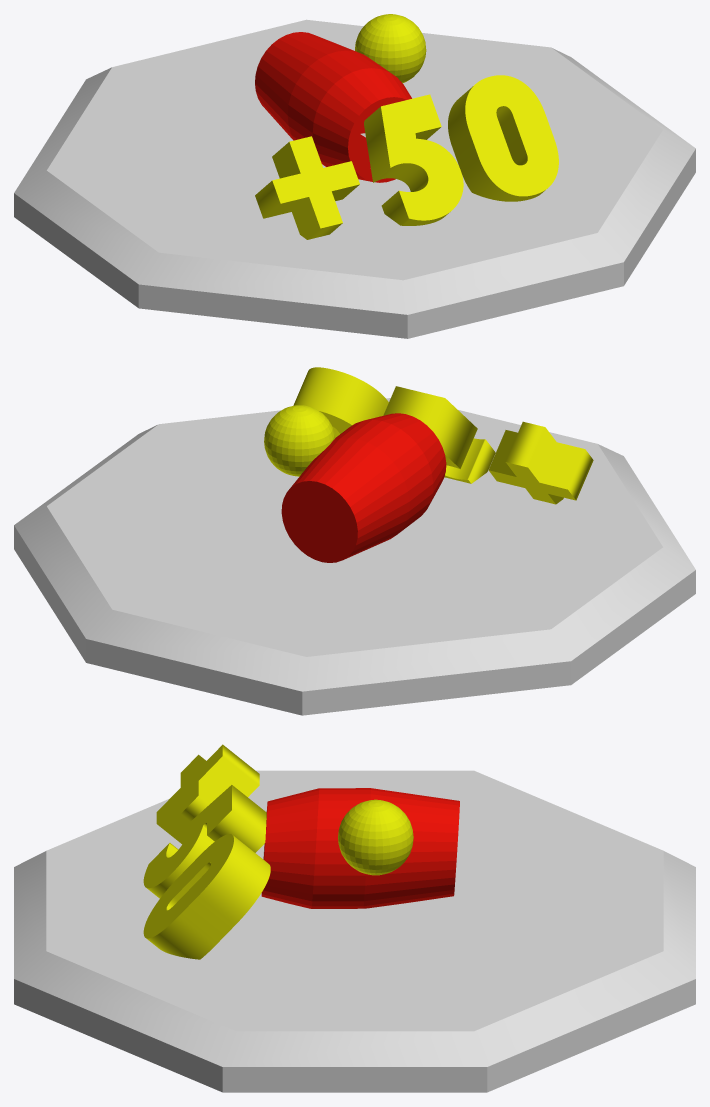
Rendered from Every10.fbx.
The picture shows the model from 3 angles, top to bottom: view 1: azimuth 30°, elevation 25°; view 2: azimuth 150°, elevation 25°; view 3: azimuth 270°, elevation 25°; orthographic projection. The views are drawn at different scales.
Parts seen in each view (by area): view 1: Cube.004, Text, Text.001, Sphere; view 2: Cube.004, Text.001, Text, Sphere; view 3: Cube.004, Text, Text.001, Sphere.
Boxes of the visible parts, bbox=[...] form: Cube.004: bbox=[14, 19, 695, 338]; Text: bbox=[255, 75, 558, 239]; Text.001: bbox=[255, 32, 411, 182]; Sphere: bbox=[355, 14, 426, 83]; Cube.004: bbox=[14, 398, 695, 715]; Text.001: bbox=[281, 413, 446, 562]; Text: bbox=[293, 367, 593, 504]; Sphere: bbox=[264, 405, 335, 476]; Cube.004: bbox=[14, 770, 695, 1092]; Text: bbox=[143, 744, 270, 959]; Text.001: bbox=[261, 788, 459, 908]; Sphere: bbox=[338, 799, 413, 875].
Bounding box in the file's own units: 90.03 × 24.57 × 90.03.
